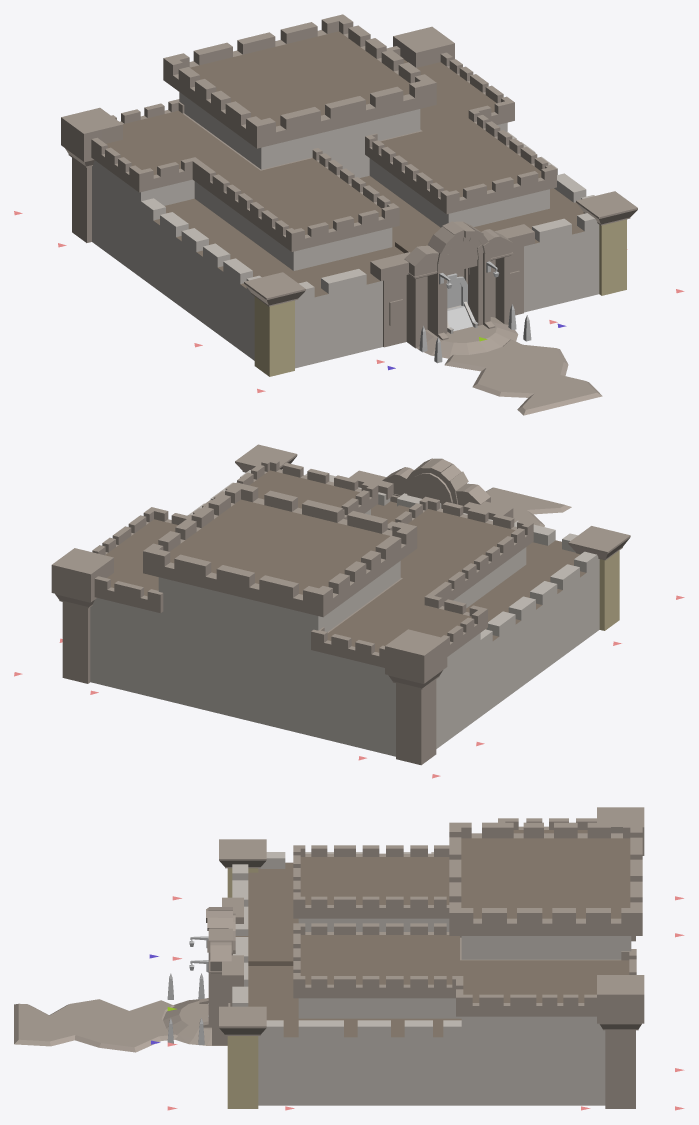
Rendered from tomb2_scene6_collision_waypoints_spawnpoints.fbx.
3 renders of one model, top to bottom at view 1: azimuth 30°, elevation 25°; view 2: azimuth 150°, elevation 25°; view 3: azimuth 270°, elevation 25°, orthographic. The views are drawn at different scales.
Visible parts, largest first — view 1: Tomb_interior_02_floorplan2collide:exterior, Tomb_interior_02_floorplan2collide:interior_and_frontdoor, Tomb_template_01b_collide:stairs; view 2: Tomb_interior_02_floorplan2collide:exterior, Tomb_interior_02_floorplan2collide:interior_and_frontdoor; view 3: Tomb_interior_02_floorplan2collide:exterior, Tomb_interior_02_floorplan2collide:interior_and_frontdoor.
Boxes of the visible parts, <box> form: Tomb_interior_02_floorplan2collide:exterior: <box>61,14,637,376</box>; Tomb_interior_02_floorplan2collide:interior_and_frontdoor: <box>370,221,602,415</box>; Tomb_template_01b_collide:stairs: <box>447,302,477,333</box>; Tomb_interior_02_floorplan2collide:exterior: <box>51,444,630,765</box>; Tomb_interior_02_floorplan2collide:interior_and_frontdoor: <box>349,458,571,526</box>; Tomb_interior_02_floorplan2collide:exterior: <box>219,807,644,1108</box>; Tomb_interior_02_floorplan2collide:interior_and_frontdoor: <box>14,897,243,1052</box>.
Bounding box in the file's own units: 30200 × 10106 × 39956.
